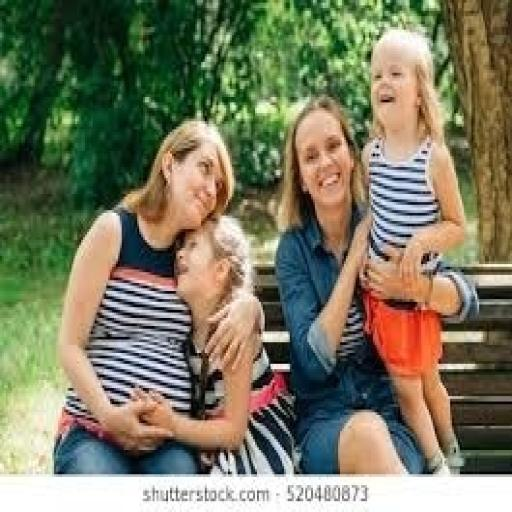sitting: (50, 24, 479, 474), (52, 116, 292, 474), (272, 92, 468, 474)
